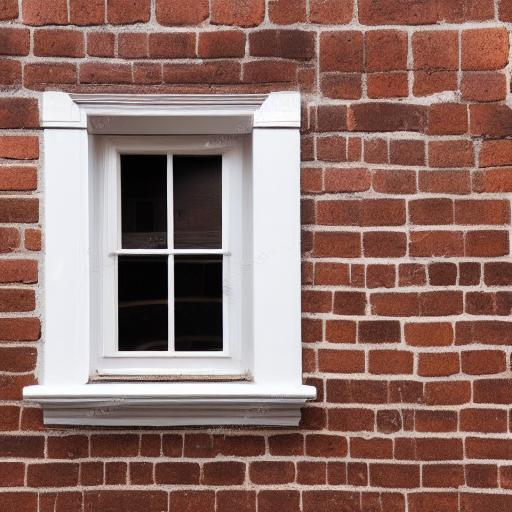Window: (21, 89, 318, 433)
